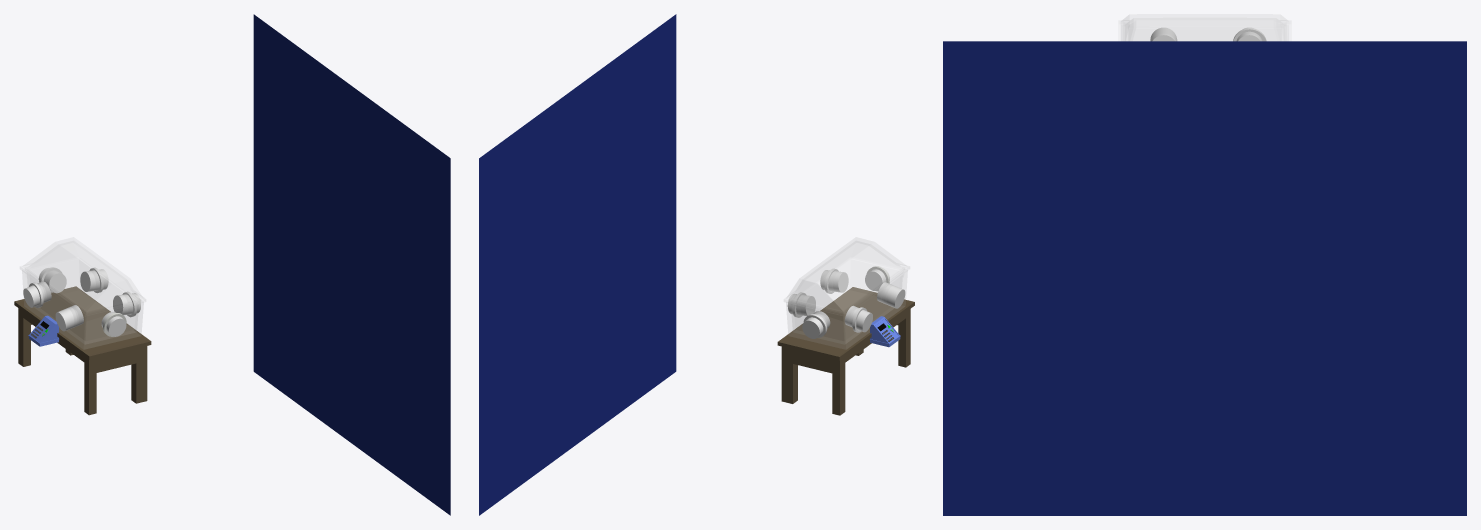
Rendered from incubadora.glb.
The picture shows the model from 3 angles, left to right: view 1: azimuth 30°, elevation 25°; view 2: azimuth 150°, elevation 25°; view 3: azimuth 270°, elevation 25°; orthographic projection. The views are drawn at different scales.
Visible parts, largest first — view 1: Plane, Cube, Cube.006, Cube.002, Cylinder.005, Cylinder.002; view 2: Plane, Cube, Cube.006, Cube.002, Cylinder.005; view 3: Plane, Cube.
Part boxes in pixels (x1,y1,x2,y2): Plane: [253, 14, 450, 515]; Cube: [20, 237, 145, 348]; Cube.006: [14, 286, 151, 415]; Cube.002: [28, 315, 59, 346]; Cylinder.005: [55, 305, 83, 331]; Cylinder.002: [80, 269, 108, 291]; Plane: [479, 14, 676, 515]; Cube: [784, 237, 909, 348]; Cube.006: [777, 287, 914, 415]; Cube.002: [869, 316, 900, 347]; Cylinder.005: [877, 282, 905, 308]; Plane: [943, 41, 1466, 515]; Cube: [1119, 14, 1290, 40].
Size of what is drawn, in the model's own units: 12.38 by 13.31 by 13.31.
